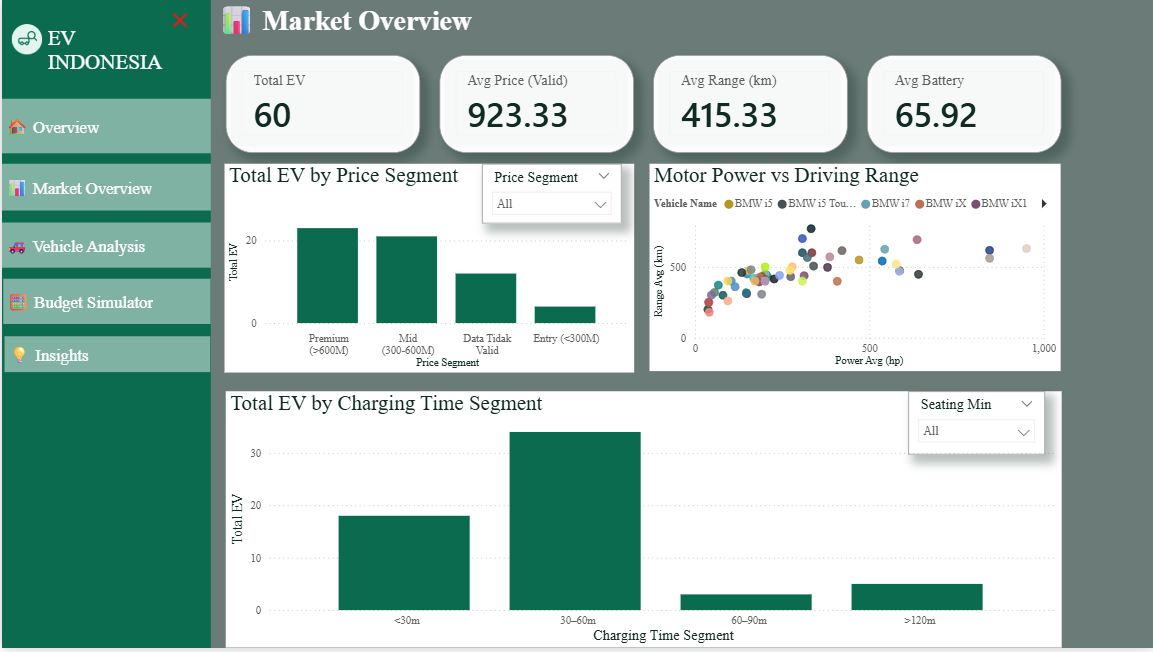

This screenshot's page, from the dashboard's own definition file:
{"tool":"powerbi","page":{"name":"Market Analysis","canvas":[1280,720],"ordinal":1},"visuals":[{"type":"shape","title":"Sidebar Background","box":[0,0,232,720.4],"z":0,"group":"g1"},{"type":"textbox","title":"📊 Market Overview","box":[235,0,1045,40],"z":0},{"type":"textbox","title":"EV INDONESIA","box":[46.3,29.4,159.3,60.6],"z":1000,"group":"g1"},{"type":"cardVisual","fields":{"Data":["EV_Data.Total EV"]},"box":[248,61.3,215.7,108.6],"z":1000},{"type":"actionButton","title":"Sidebar Close","box":[171,1.7,53.7,39.8],"z":2000,"group":"g1"},{"type":"cardVisual","fields":{"Data":["EV_Data.Avg Price (Valid)"]},"box":[486.6,61.3,215.7,108.6],"z":2000},{"type":"cardVisual","fields":{"Data":["EV_Data.Avg Range (km)"]},"box":[723.7,61.3,215.7,108.6],"z":3000},{"type":"actionButton","box":[0,109.1,232,60.6],"z":3000,"group":"g1"},{"type":"cardVisual","fields":{"Data":["EV_Data.Avg Battery"]},"box":[960.9,61.3,215.7,108.6],"z":4000},{"type":"actionButton","box":[0,181.8,232,51.9],"z":4000,"group":"g1"},{"type":"clusteredColumnChart","fields":{"Y":["EV_Data.Total EV"],"Category":["EV_Data.Price Segment"]},"box":[247.6,181.8,455.4,232],"z":5000},{"type":"actionButton","box":[0,247.6,232,50.2],"z":5000,"group":"g1"},{"type":"scatterChart","title":"Motor Power vs Driving Range","fields":{"X":["EV_Data.Power Avg (hp)"],"Y":["EV_Data.Range Avg (km)"],"Series":["EV_Data.Vehicle Name"]},"box":[719.5,181.7,457.1,230.3],"z":6000},{"type":"actionButton","box":[1.7,310,230.3,50.2],"z":6000,"group":"g1"},{"type":"actionButton","box":[3.5,374,228.6,39.8],"z":7000,"group":"g1"},{"type":"clusteredColumnChart","fields":{"Y":["EV_Data.Total EV"],"Category":["EV_Data.Charging Time Segment"]},"box":[248.2,434.6,928.5,285],"z":7000},{"type":"image","box":[9.6,21.4,36.3,45.7],"z":8000,"group":"g1"},{"type":"slicer","fields":{"Values":["EV_Data.Price Segment"]},"box":[533.3,181.7,155,66.7],"z":8000},{"type":"slicer","fields":{"Values":["EV_Data.Seating Min"]},"box":[1006.7,435,151.7,70],"z":9000},{"type":"group","id":"g1","title":"SIDEBAR","box":[0,0,232,720.4],"z":11000}]}

Visuals, with their boxes on the page's 1280x720 design canvas (x1, y1, x2, y2). These are canvas units, not pixel positions in the 1153x652 screenshot, which may show the page scaled, cropped or inside an application window:
"Sidebar Background" shape: select_region(0, 0, 232, 720)
"📊 Market Overview" textbox: select_region(235, 0, 1280, 40)
"EV INDONESIA" textbox: select_region(46, 29, 206, 90)
cardVisual - EV_Data.Total EV: select_region(248, 61, 464, 170)
"Sidebar Close" actionButton: select_region(171, 2, 225, 42)
cardVisual - EV_Data.Avg Price (Valid): select_region(487, 61, 702, 170)
cardVisual - EV_Data.Avg Range (km): select_region(724, 61, 939, 170)
actionButton: select_region(0, 109, 232, 170)
cardVisual - EV_Data.Avg Battery: select_region(961, 61, 1177, 170)
actionButton: select_region(0, 182, 232, 234)
clusteredColumnChart - EV_Data.Total EV x EV_Data.Price Segment: select_region(248, 182, 703, 414)
actionButton: select_region(0, 248, 232, 298)
"Motor Power vs Driving Range" scatterChart: select_region(720, 182, 1177, 412)
actionButton: select_region(2, 310, 232, 360)
actionButton: select_region(4, 374, 232, 414)
clusteredColumnChart - EV_Data.Total EV x EV_Data.Charging Time Segment: select_region(248, 435, 1177, 720)
image: select_region(10, 21, 46, 67)
slicer - EV_Data.Price Segment: select_region(533, 182, 688, 248)
slicer - EV_Data.Seating Min: select_region(1007, 435, 1158, 505)
"SIDEBAR" group: select_region(0, 0, 232, 720)
